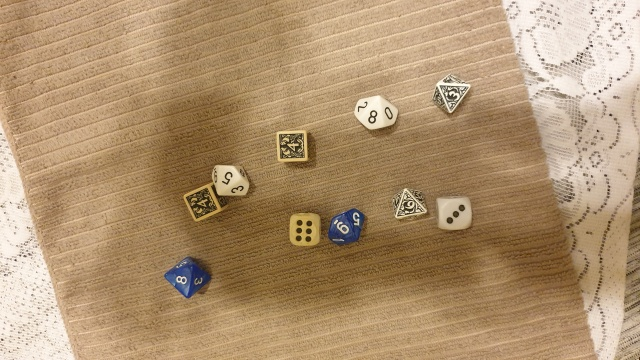d10-5: (207, 161, 253, 201)
d10-8: (161, 253, 210, 301), (350, 94, 404, 135)
d10-9: (326, 204, 365, 250)
d6-3: (433, 192, 472, 231)
d6-6: (287, 212, 323, 248)
d6p-4: (183, 183, 225, 224), (272, 128, 310, 165)
d8p-3: (430, 69, 472, 120)
d8p-6: (388, 183, 430, 226)
